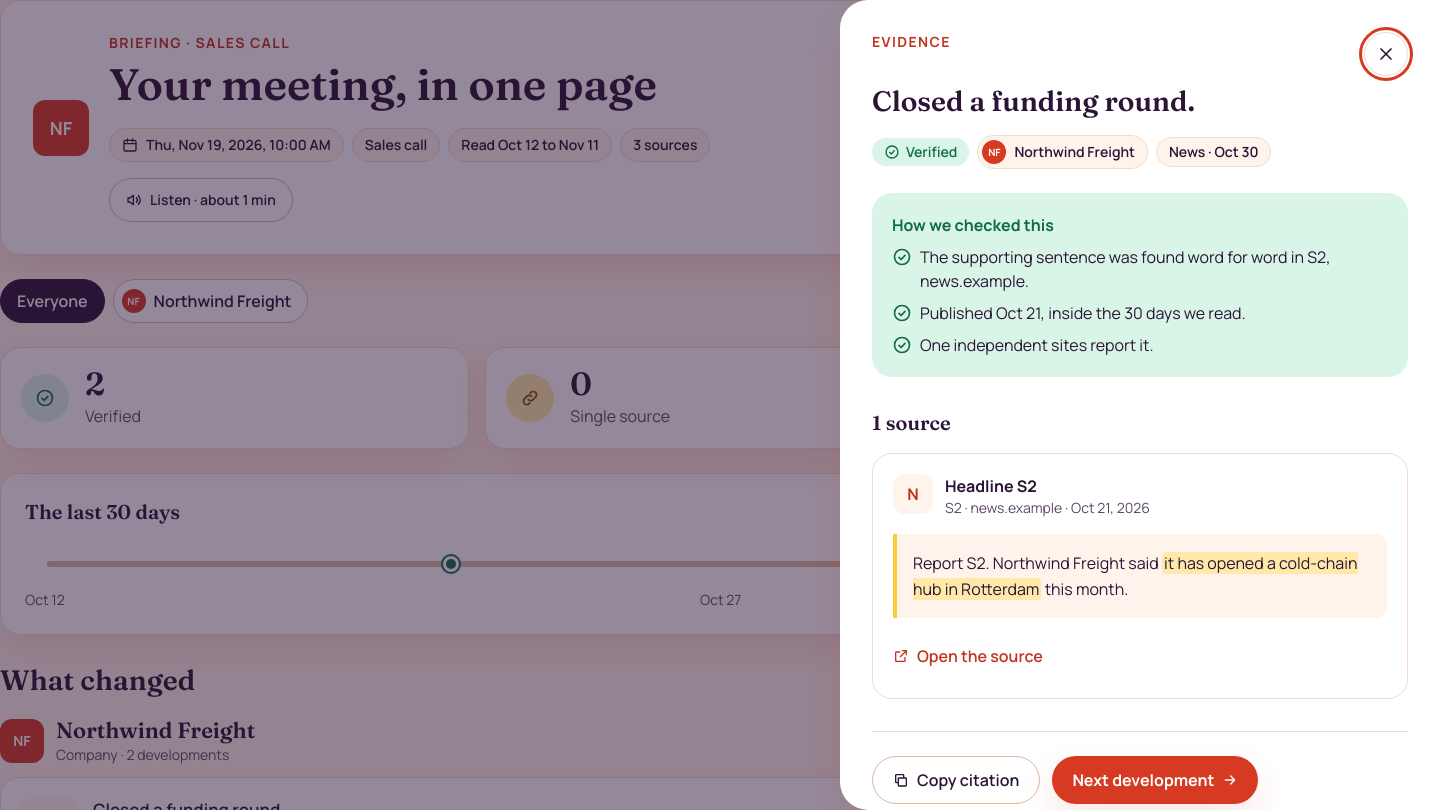
Test: EvidencePanel › steps through the visible list, newest first
Click the button "Next development".
click(1155, 780)  # box [1052,756,1258,804]
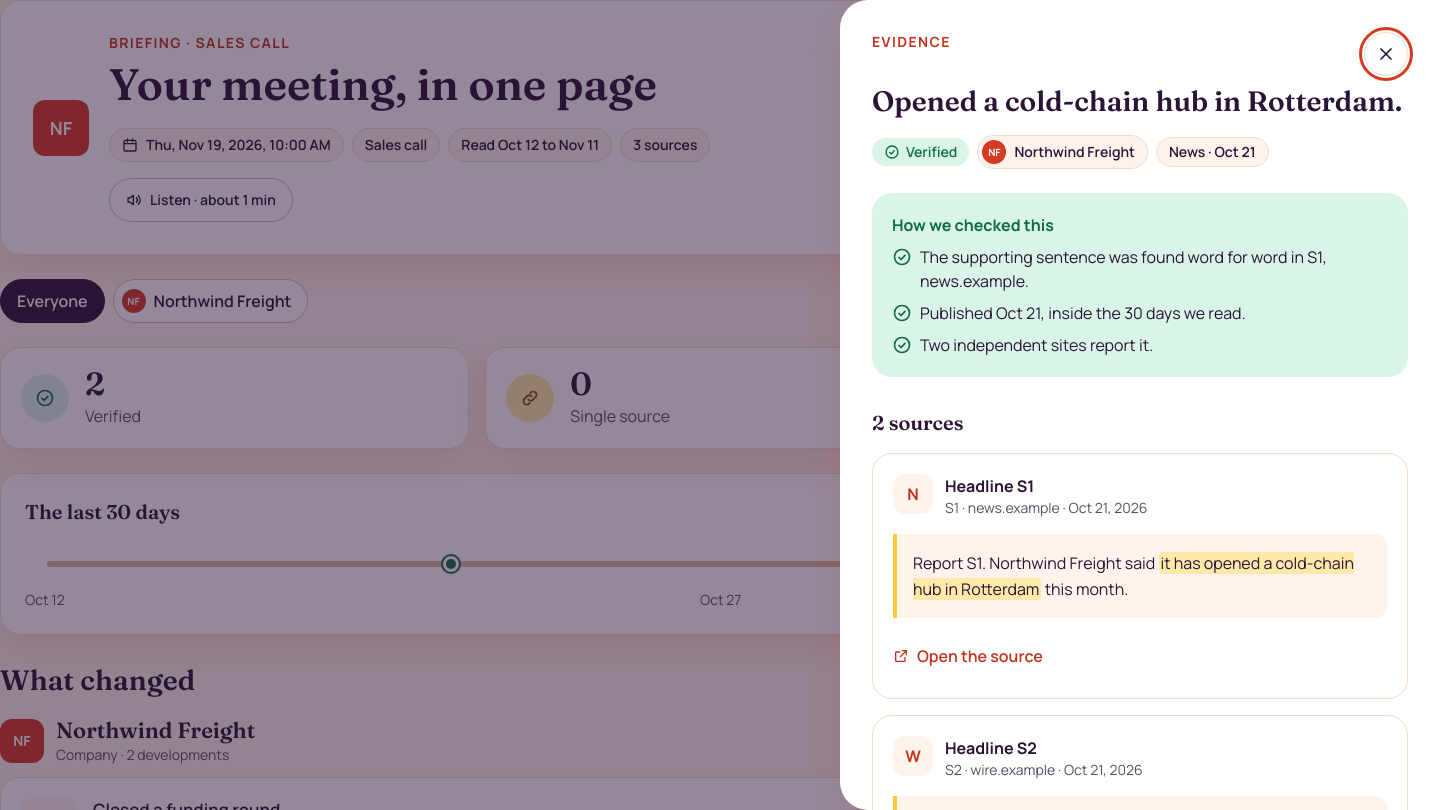
Expected: the dialog "Opened a cold-chain hub in Rotterdam." is shown, [840,0,1439,809]
Now the button "Next development" is gone
